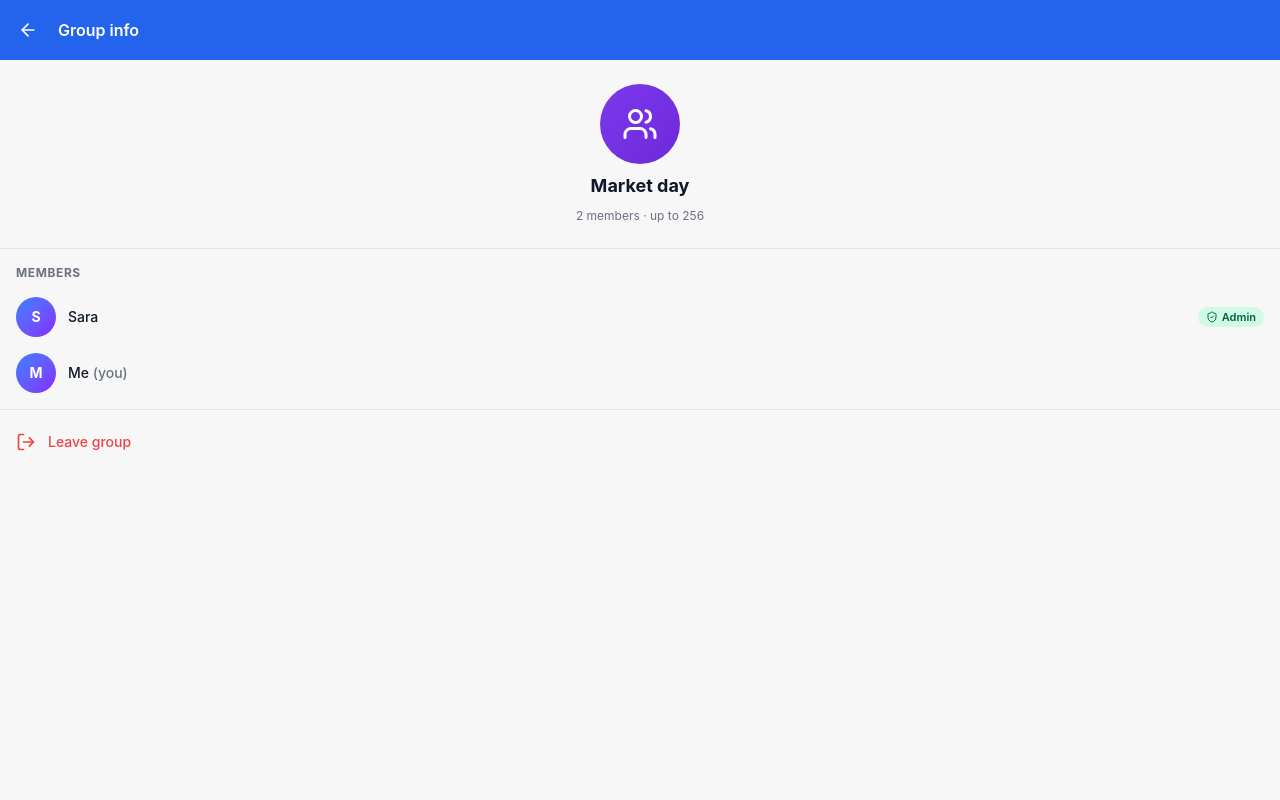
members screen › members only see View profile and Leave
This screenshot has width=1280, height=800.
Expected: the heading "Market day" is shown, [591,172,689,200]
Expected: the button "Leave group" is shown, [0,418,1279,466]
Click the button "S Sara Admin": (36, 317) [0,289,1279,345]
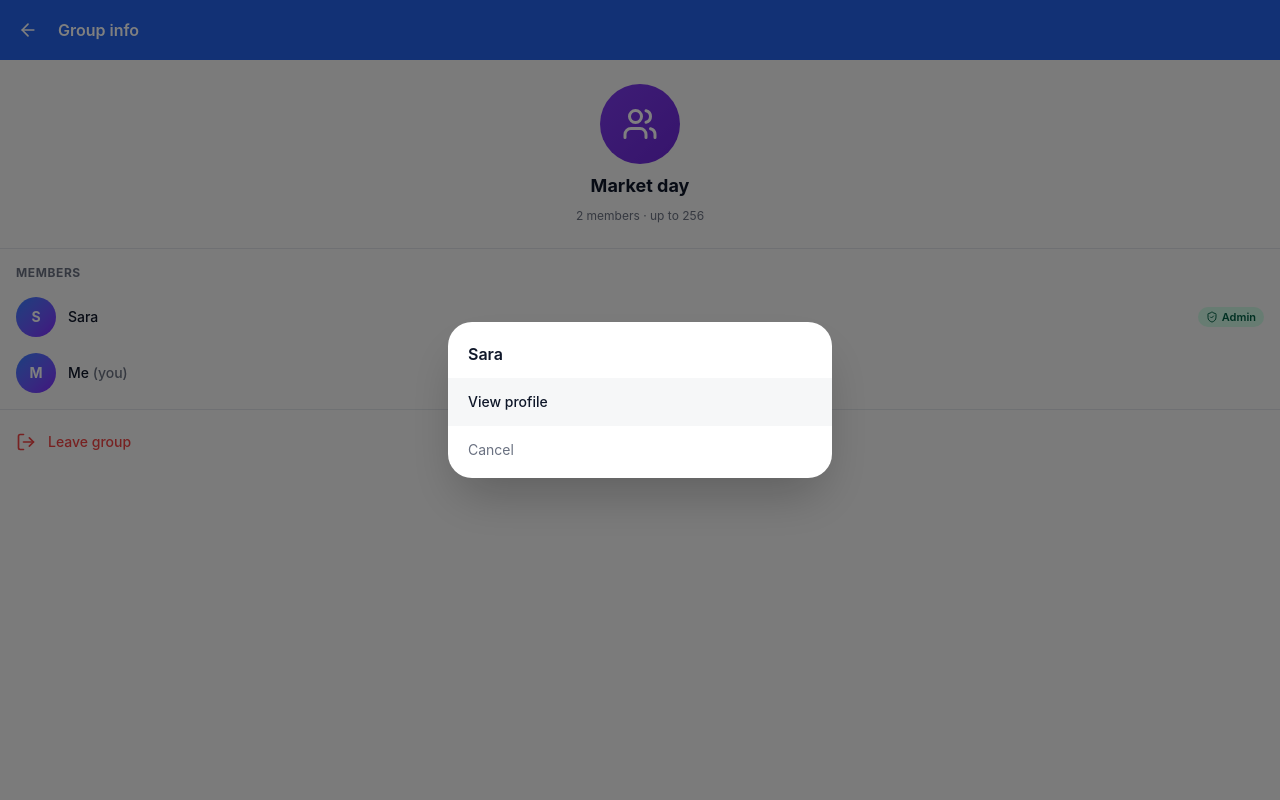
Result: the button "View profile" is shown at [448,378,832,426]
